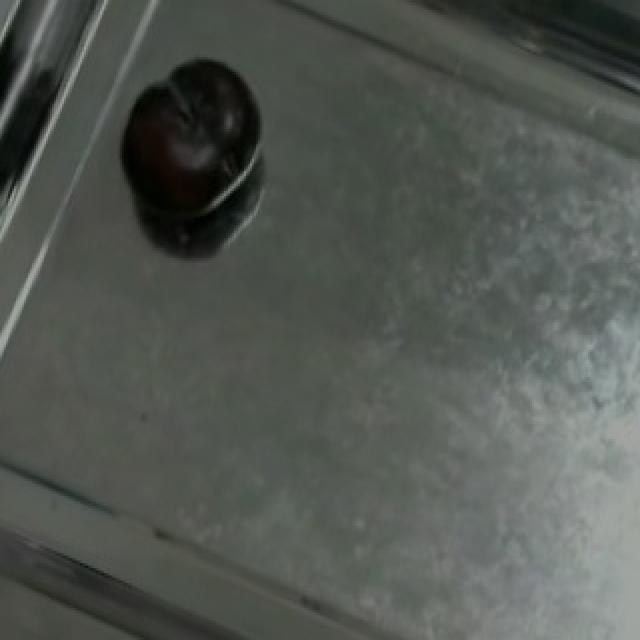Fruit: (100, 37, 282, 251)
